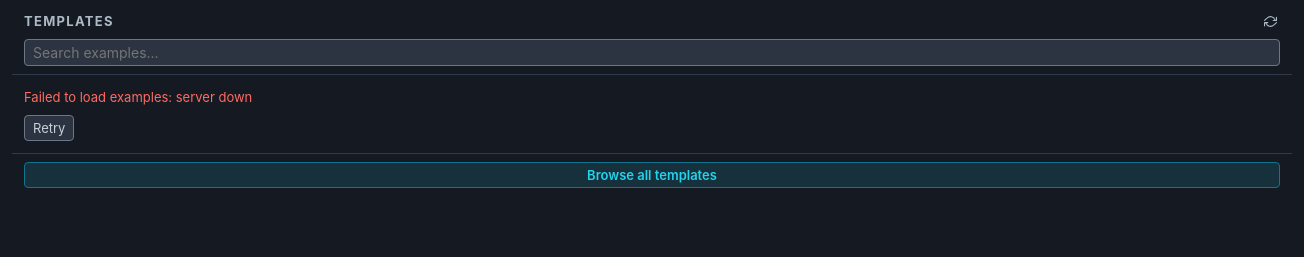
Scenario: TemplatesTab › shows the error state and retries on click
The width and height of the screenshot is (1304, 257).
Expected: the text "Failed to load examples: server down" is shown, [24, 89, 252, 105]
Click the button "Retry": (49, 128) [24, 115, 74, 141]
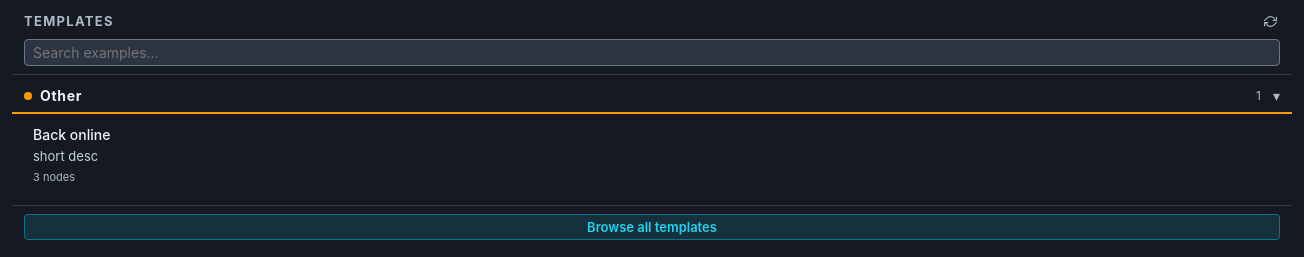
Result: the text "Back online" is shown at [33, 126, 110, 143]
